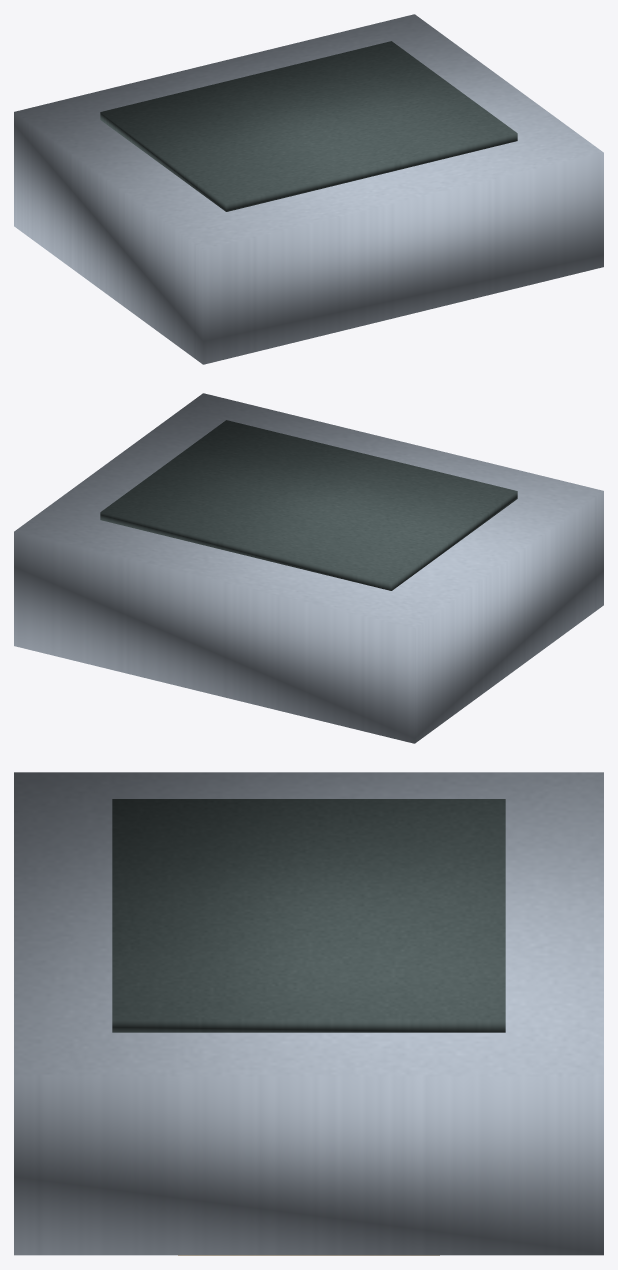
3 views of the same model, one above another, from view 1: azimuth 30°, elevation 25°; view 2: azimuth 150°, elevation 25°; view 3: azimuth 270°, elevation 25° (orthographic). The views are drawn at different scales.
Parts seen in each view (by area): view 1: silver__PSMAT__silver, ceramic_package__PSMAT__ceramic_package; view 2: silver__PSMAT__silver, ceramic_package__PSMAT__ceramic_package; view 3: silver__PSMAT__silver, ceramic_package__PSMAT__ceramic_package.
Part boxes in pixels (x1,y1,x2,y2): silver__PSMAT__silver: (14,14,603,364); ceramic_package__PSMAT__ceramic_package: (100,41,517,211); silver__PSMAT__silver: (14,393,603,743); ceramic_package__PSMAT__ceramic_package: (100,420,517,590); silver__PSMAT__silver: (14,772,603,1255); ceramic_package__PSMAT__ceramic_package: (112,799,505,1032).
Size of the model in its own units: 0.011 by 0.00332 by 0.009.
Materials: 3 (3 with a texture image).
